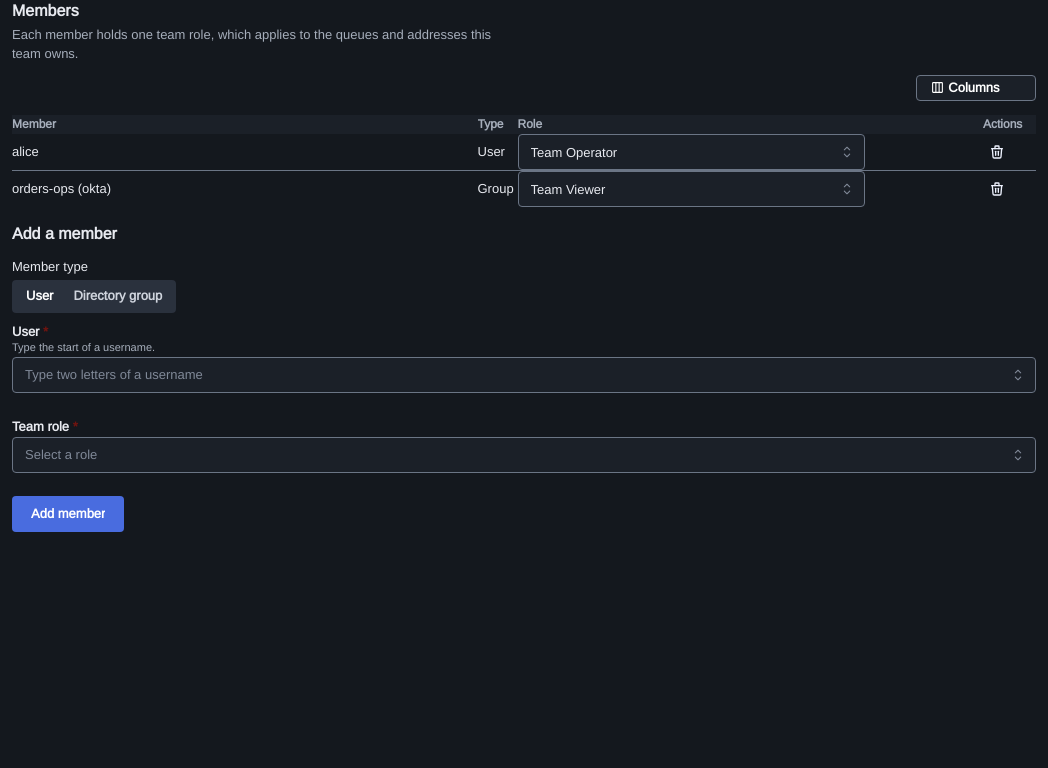
Test: TeamMembers › changes a member's role in place
The image size is (1048, 768).
Click the dropdown named "Role of alice" at (691, 152), box left=518, top=134, right=864, bottom=170
(page scrolled)
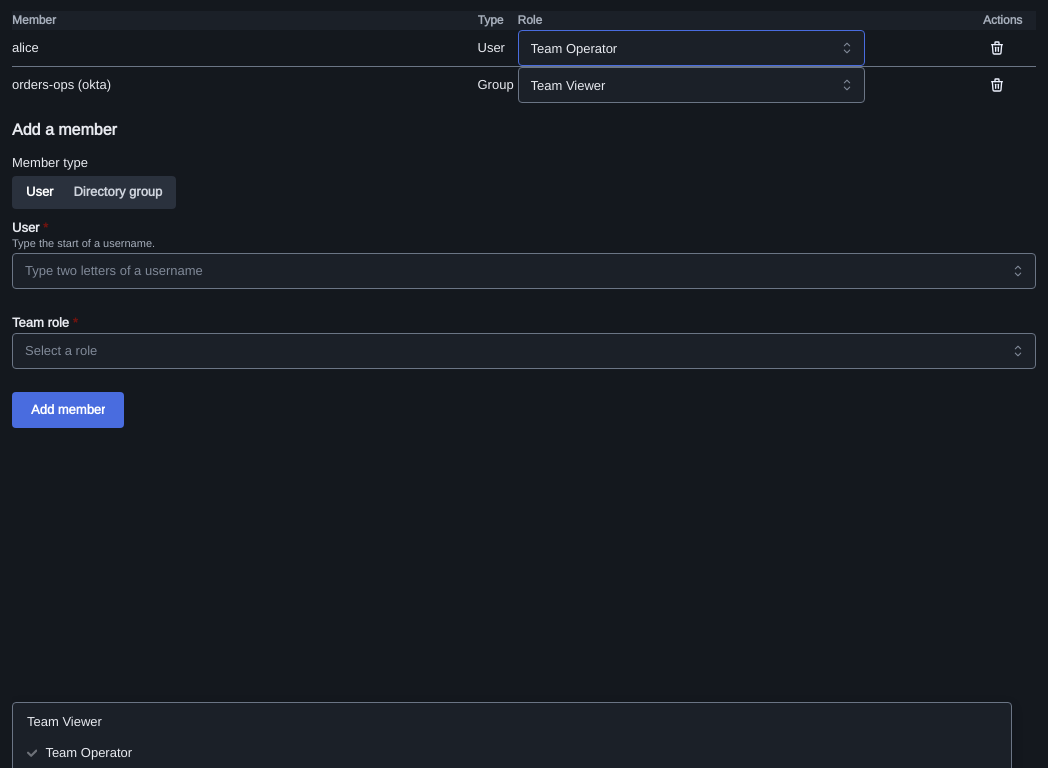
Click the option "Team Viewer" at (64, 722), box left=27, top=713, right=102, bottom=730
(page scrolled)
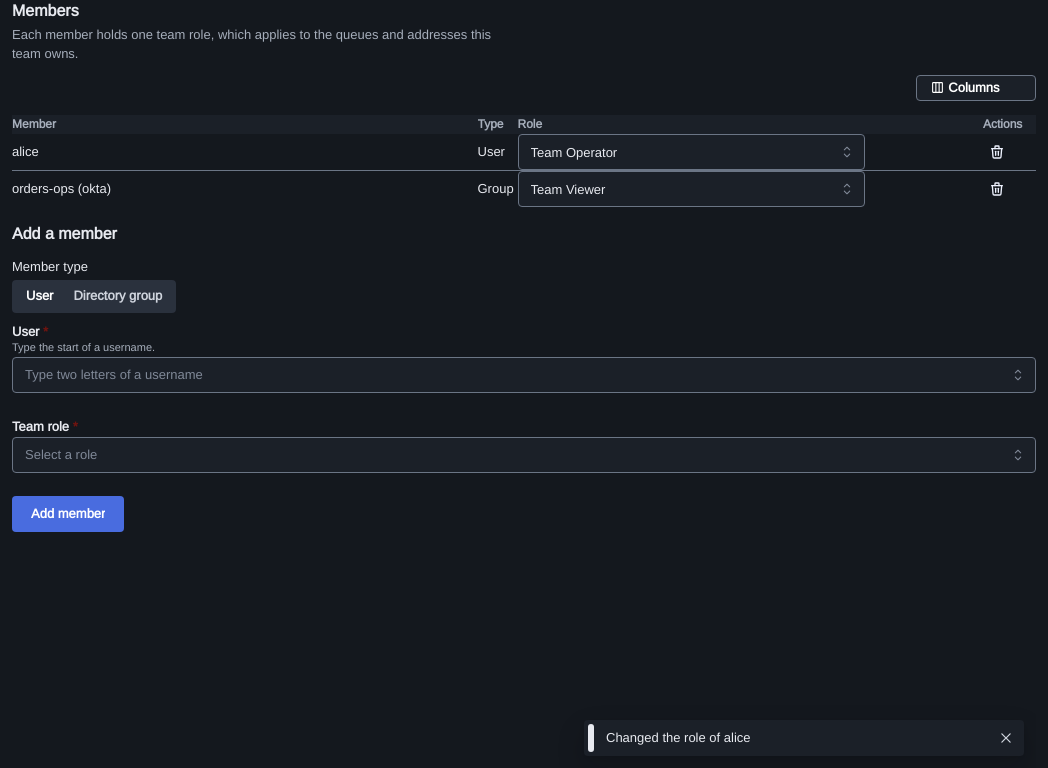
Result: the text "Changed the role of alice" is shown at left=606, top=729, right=750, bottom=746
